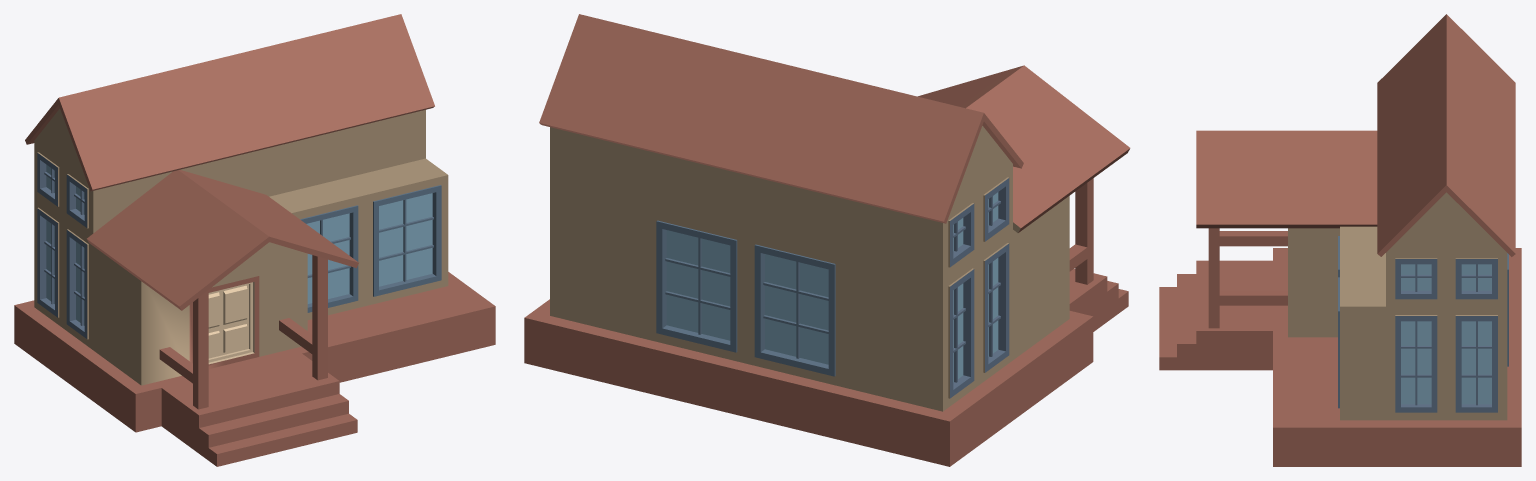
Rendered from suburban-house-B.fbx.
3 renders of one model, left to right at view 1: azimuth 30°, elevation 25°; view 2: azimuth 150°, elevation 25°; view 3: azimuth 270°, elevation 25°, orthographic. The views are drawn at different scales.
Visible parts, largest first — view 1: suburban-house-B; view 2: suburban-house-B; view 3: suburban-house-B.
Part boxes in pixels (x1,y1,x2,y2): suburban-house-B: [14, 14, 495, 466]; suburban-house-B: [524, 14, 1130, 466]; suburban-house-B: [1159, 14, 1521, 466].
Bounding box in the file's own units: 1257 × 904 × 1071.
Materials: 1 (1 with a texture image).
